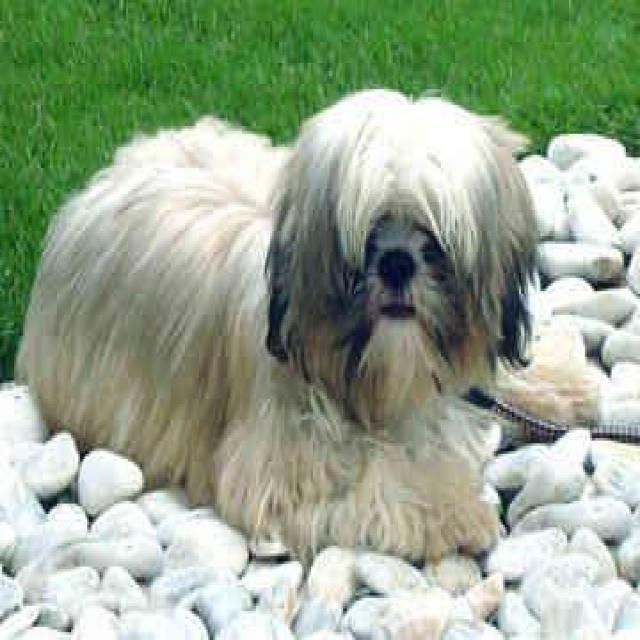shih_tzu: (15, 84, 598, 562)
